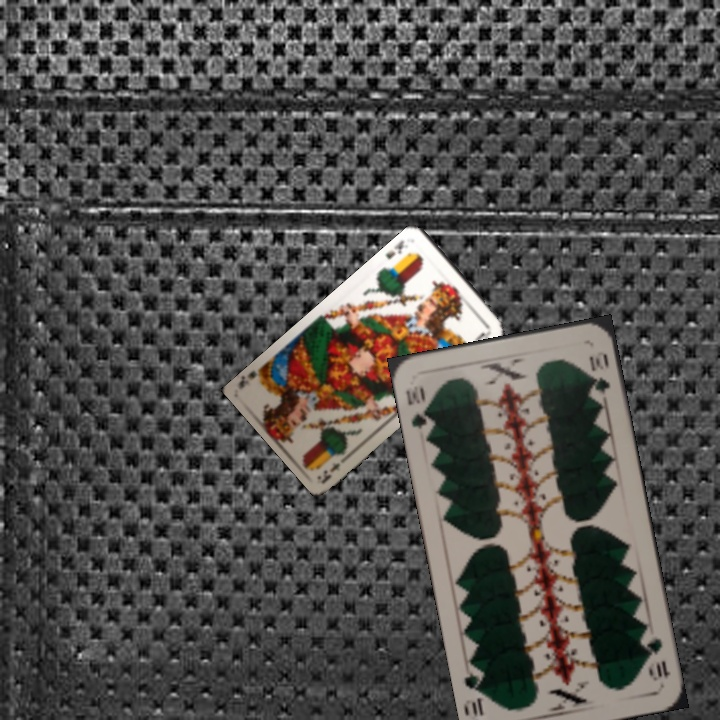EK: (319, 450, 352, 484), (382, 236, 407, 262)
G10: (401, 383, 435, 436), (640, 633, 674, 684)
